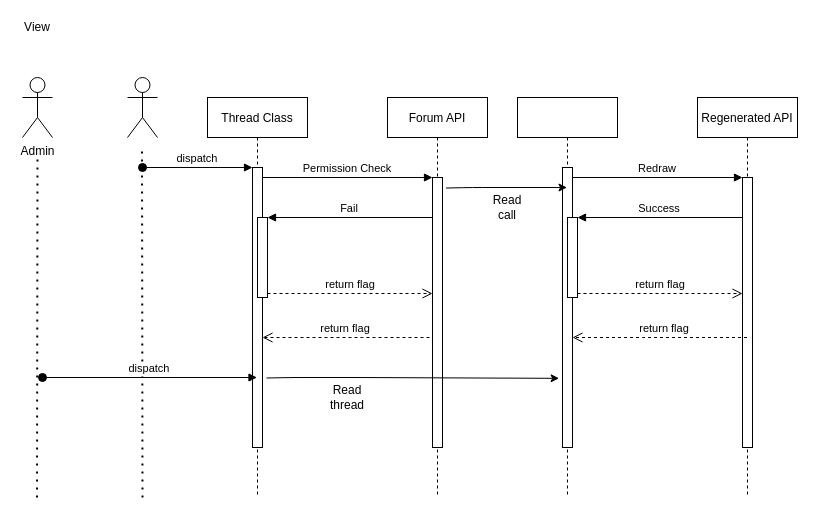
This 815x516 diagram has some shape labels left out. Each missing label, with the centre of its shape:
Client: the point at 142,107
Database API: the point at 567,297
